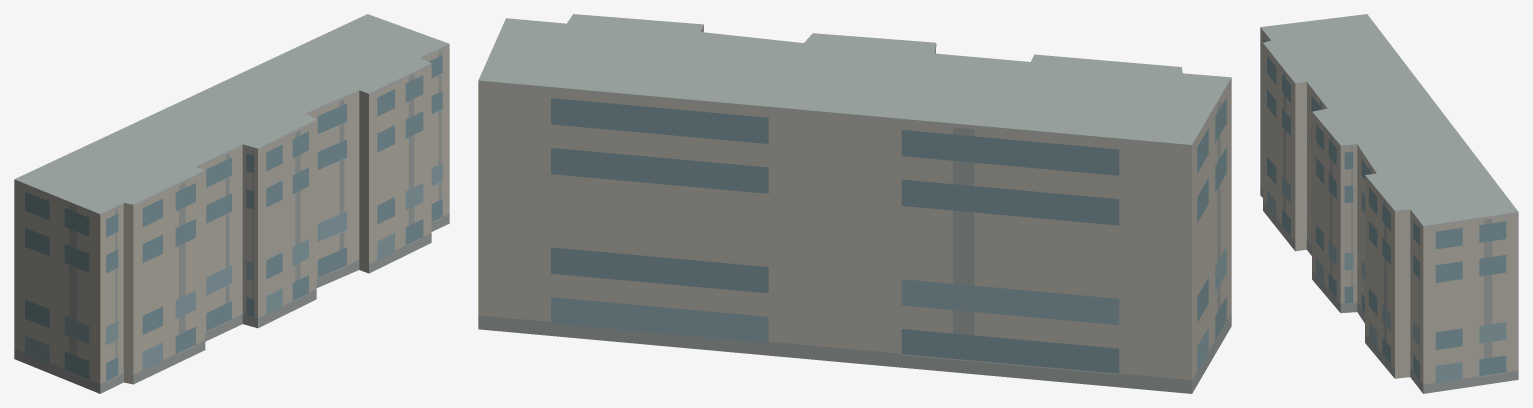
The model's file is survey-upis-32766751.glb.
3 views of the same model, side by side, from view 1: azimuth 30°, elevation 25°; view 2: azimuth 150°, elevation 25°; view 3: azimuth 270°, elevation 25° (orthographic). The views are drawn at different scales.
Visible parts, largest first — view 1: survey-upis-32766751.tmp; view 2: survey-upis-32766751.tmp; view 3: survey-upis-32766751.tmp.
Part boxes in pixels (<box>): survey-upis-32766751.tmp: <box>14,14,449,393</box>; survey-upis-32766751.tmp: <box>478,14,1231,393</box>; survey-upis-32766751.tmp: <box>1260,14,1518,393</box>.
Bounding box in the file's own units: 41.34 × 15.25 × 21.28.
